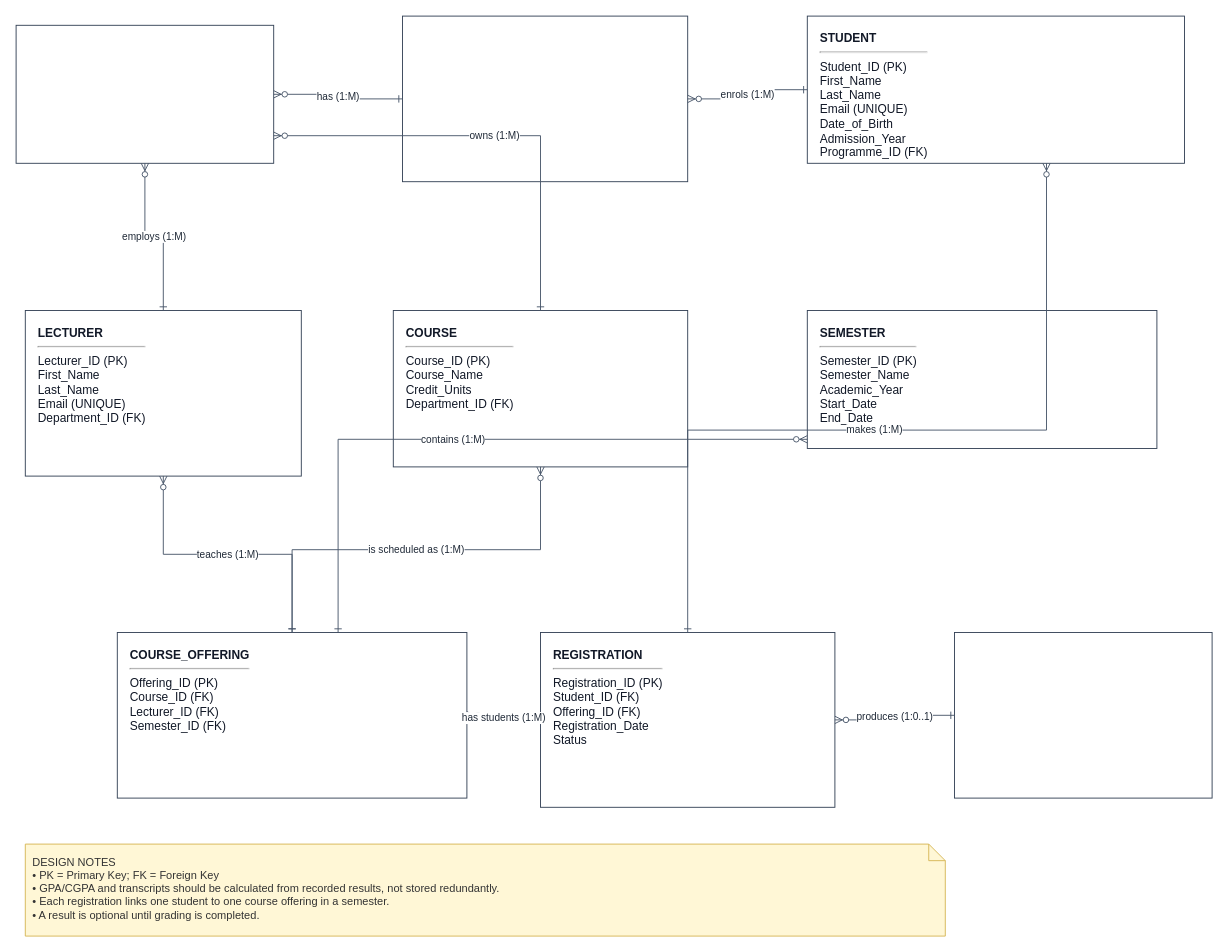
The diagram is 1228 pixels wide and 952 high, and some of its shapes have lost their labels. Here are the shapes that lost their labels. From the top down, the box of each, then its label:
(15, 24, 274, 163): DEPARTMENT Department_ID (PK) Department_Name Office_Location
(402, 15, 688, 182): PROGRAMME Programme_ID (PK) Programme_Name Degree_Level Department_ID (FK)
(954, 632, 1212, 798): RESULT Result_ID (PK) Registration_ID (FK, UNIQUE) Score Grade Grade_Point
